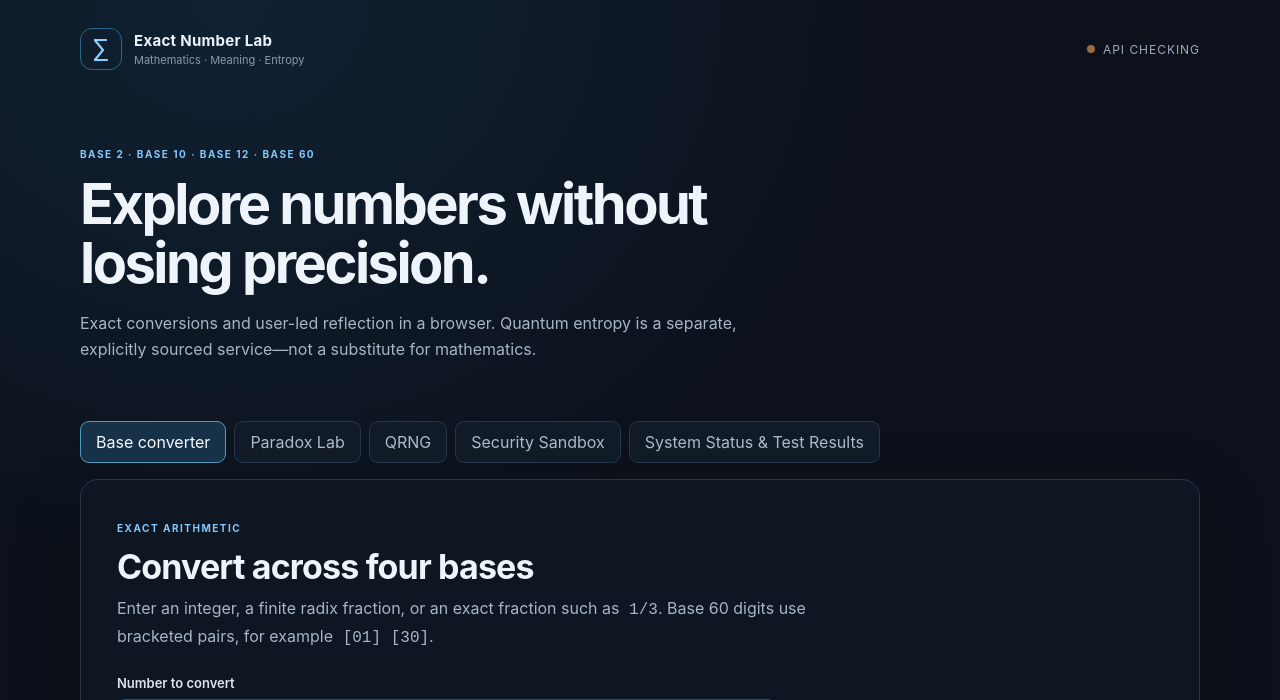
Test case: application interactions › displays and converts a provenance-validated QRNG response
The width and height of the screenshot is (1280, 700).
Click the button "QRNG" at (408,442), box [369,420,447,462]
(page scrolled)
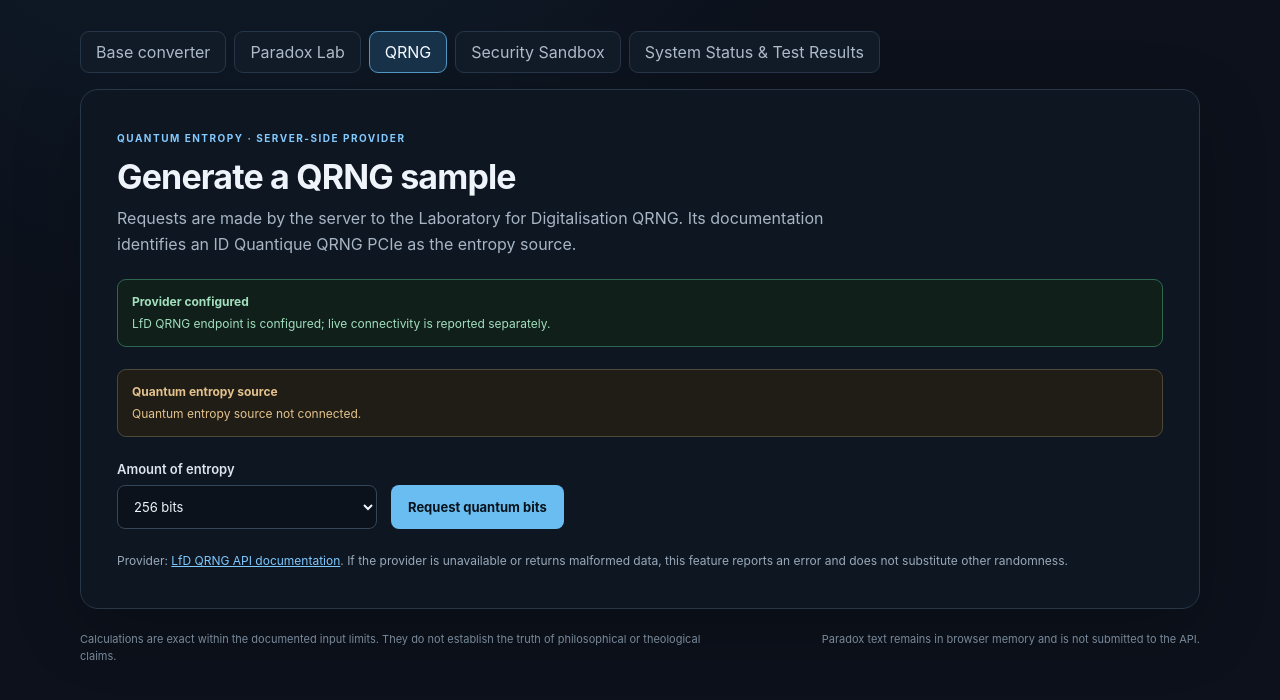
Expected: the button "Request quantum bits" is enabled, [391,485,564,529]
Select "16 bits" in the dropdown labelled "Amount of entropy" at (247,507), box [117,485,377,529]
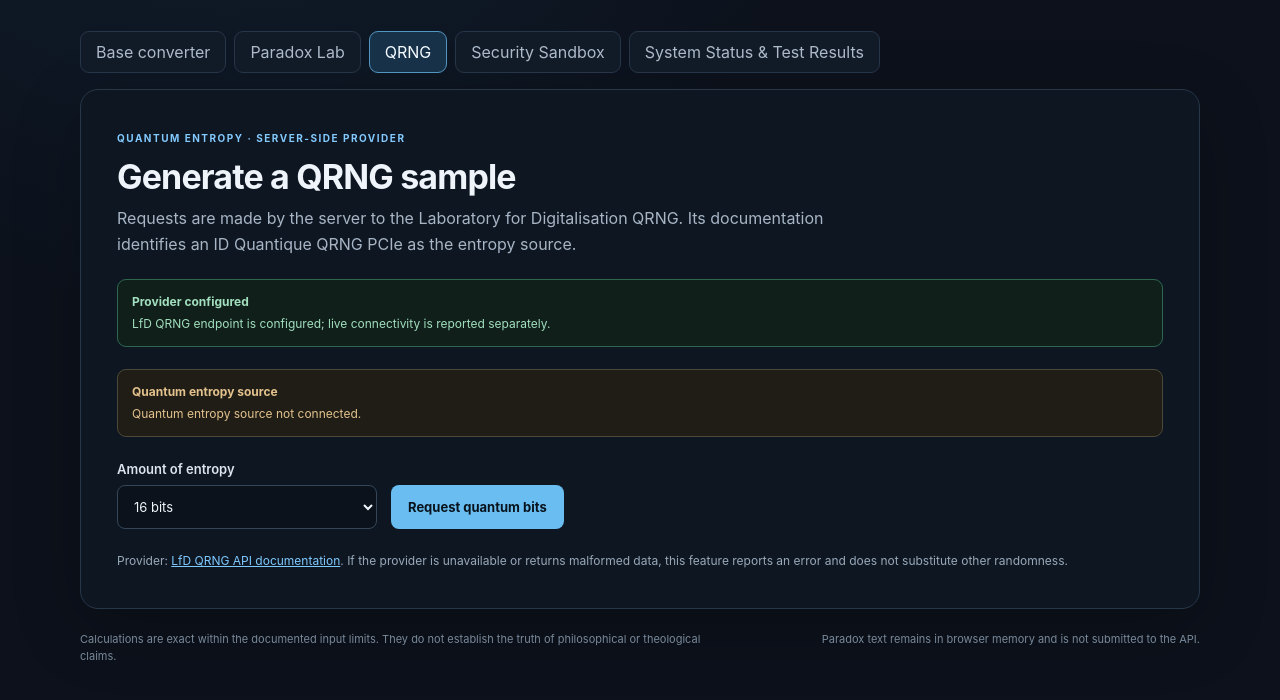
Click the button "Request quantum bits" at (477,507), box [391,485,564,529]
(page scrolled)
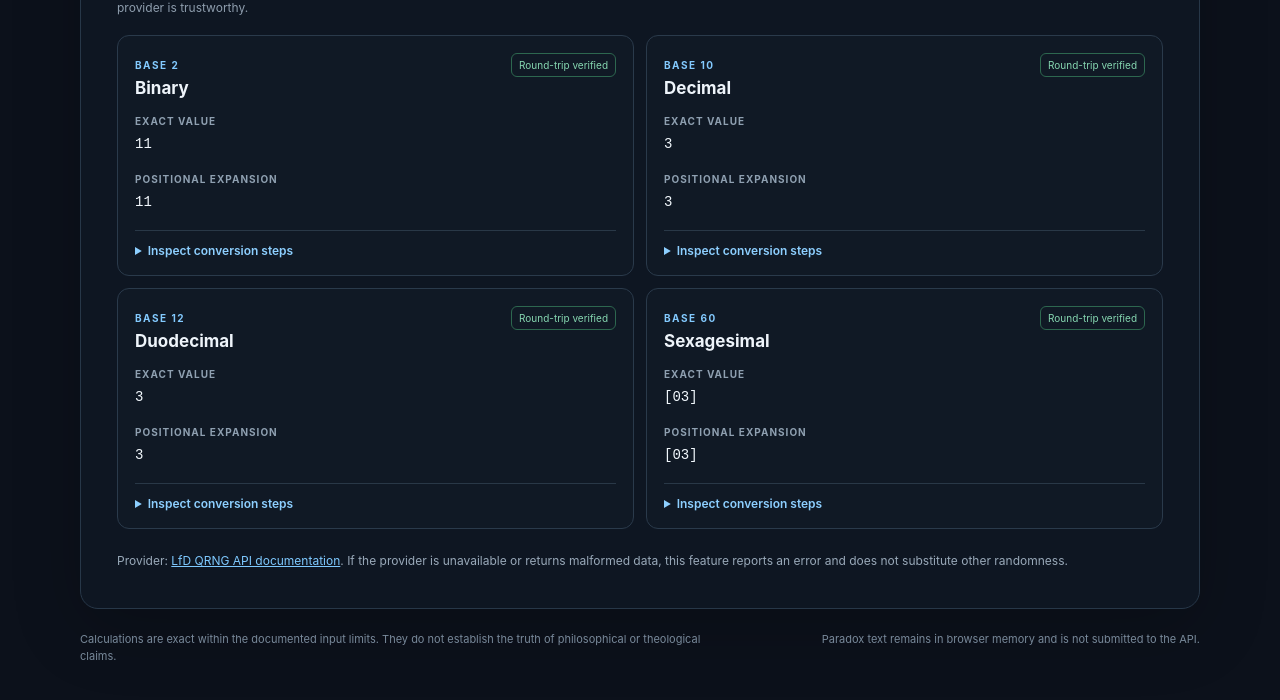
Expected: the 1st text "[03]" is shown, [664,389,698,405]
